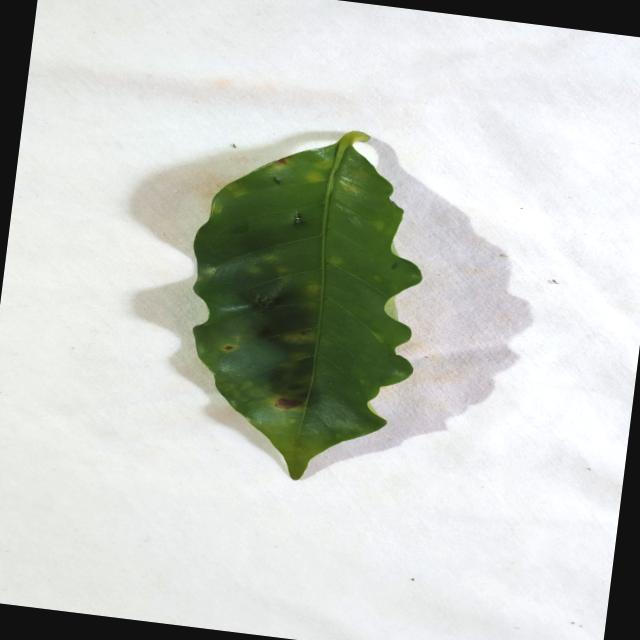KaratDaunKopi: (275, 398, 303, 409), (304, 171, 323, 182), (313, 159, 332, 169), (328, 257, 342, 264), (308, 284, 319, 292)
